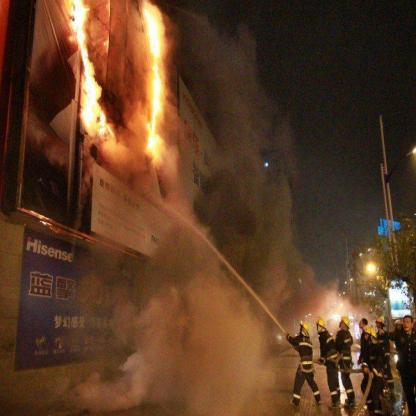fire: (135, 2, 179, 178), (61, 0, 115, 143)
smoke: (136, 250, 254, 392), (186, 26, 269, 151), (210, 160, 293, 276)
